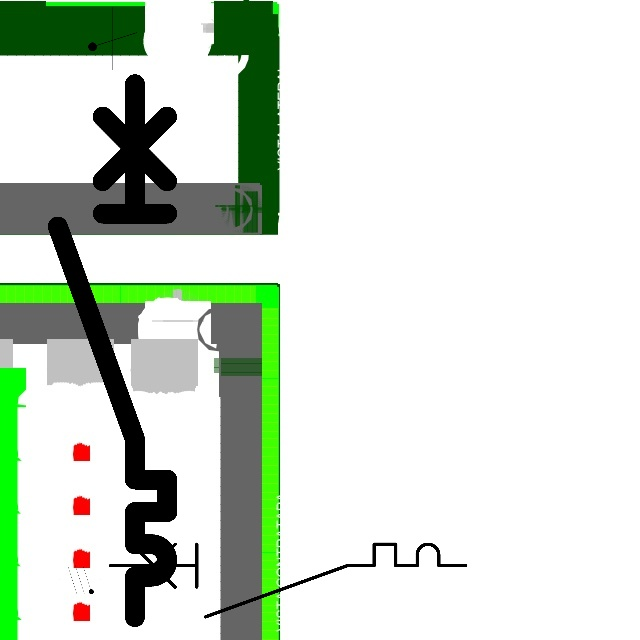interruptor_termomagnetico: (44, 70, 181, 631), (101, 535, 475, 626)
